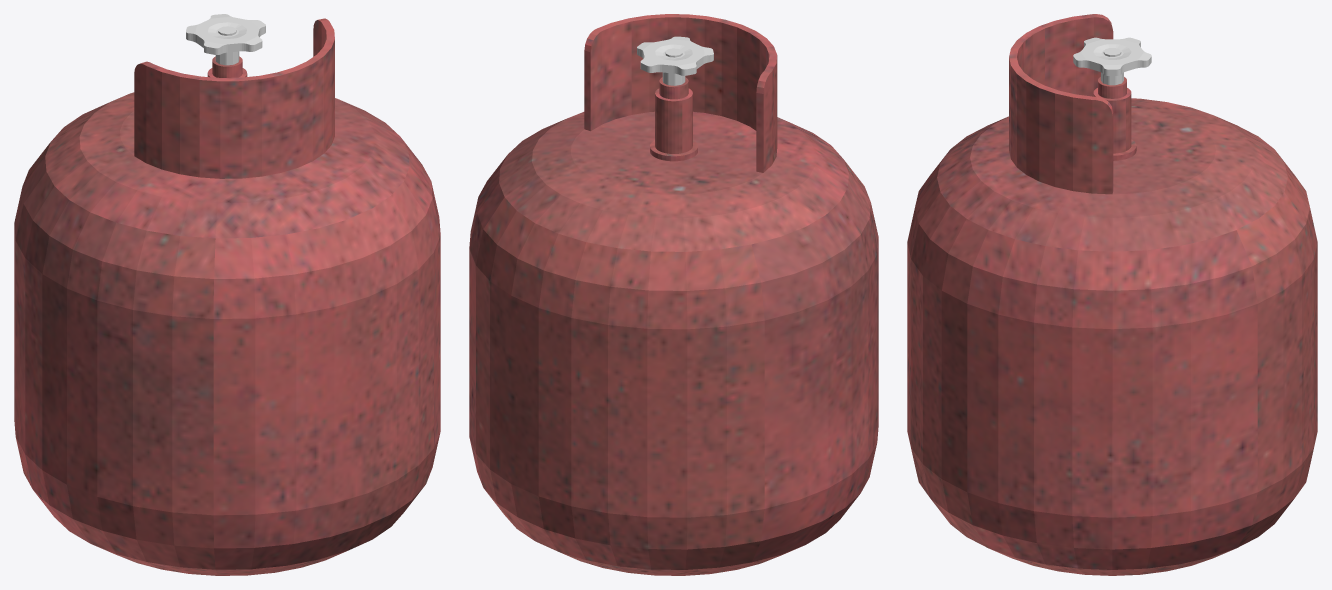
The model's file is LPGTank.fbx.
The picture shows the model from 3 angles, left to right: view 1: azimuth 30°, elevation 25°; view 2: azimuth 150°, elevation 25°; view 3: azimuth 270°, elevation 25°; orthographic projection. The views are drawn at different scales.
Visible parts, largest first — view 1: Propane, Valve; view 2: Propane, Valve; view 3: Propane, Valve.
Part boxes in pixels (x1=…): Propane: x1=14, y1=18, x2=440, y2=575; Valve: x1=186, y1=14, x2=265, y2=65; Propane: x1=469, y1=14, x2=878, y2=575; Valve: x1=637, y1=36, x2=713, y2=85; Propane: x1=907, y1=14, x2=1317, y2=575; Valve: x1=1073, y1=37, x2=1151, y2=85.
Bounding box in the file's own units: 107 × 135 × 107.
2 materials, 1 textured.
